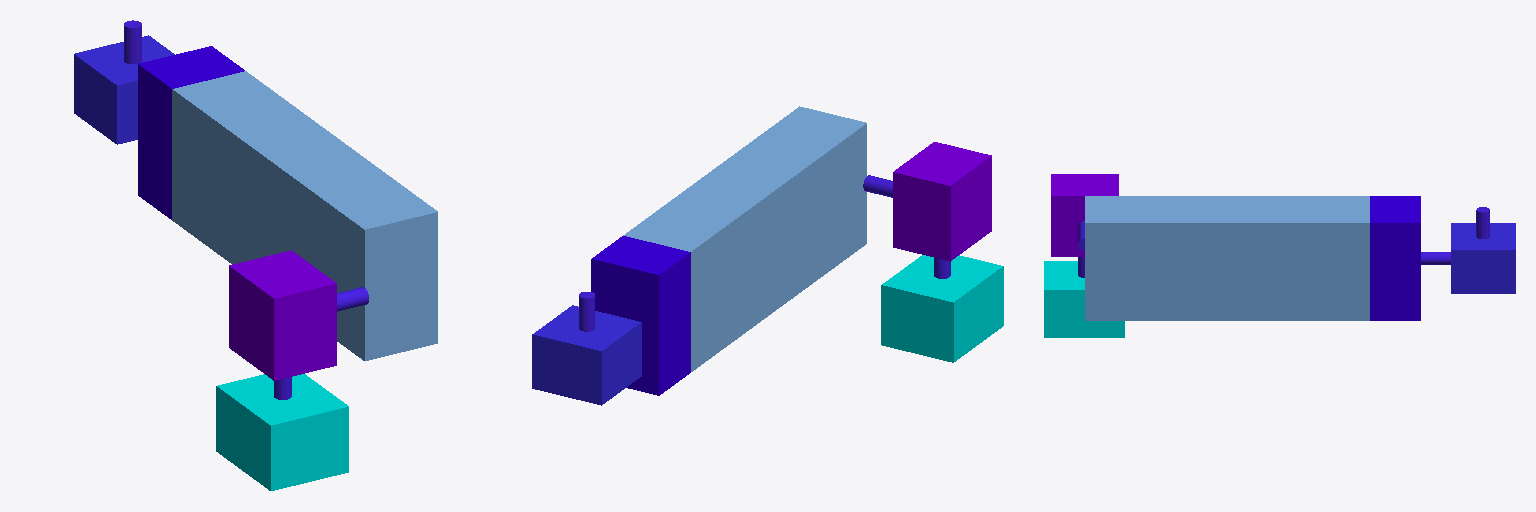
The robot description file, URDF, robot "WheelChairArm1":
<robot name="WheelChairArm1">

	<!-- * * * Link Definitions * * * -->

 	<link name="base_link">
		<visual>
		    <origin xyz="0 0 0" rpy="0 0 0"/>
          <axis xyz="0 0 0" />
			<geometry>
				<box size=".5 .6 0.4"/>
			</geometry>
			<material name="c">
	       		<color rgba="0 0.9 0.9 1.0"/>
	     	</material>
		</visual>	
	</link>

<link name="Stepper1arm">
		<visual>
		    <origin xyz="0 0 0.32" rpy="0 0 0"/>
          <axis xyz="0 0 0" />
			<geometry>
				<cylinder radius="0.05" length=".24"/>
			</geometry>
			<material name="c">
	       		<color rgba="0.3 0.15 0.9 1.0"/>
	     	</material>
		</visual>	
	</link>
<link name="Stepper2Base">
		<visual>
		    <origin xyz="0 0 0.69" rpy="0 0 0"/>
          <axis xyz="0 0 0" />
			<geometry>
				<box size=".4 .5 .5"/>
			</geometry>
			<material name="Cyan2">
	       		<color rgba="0.5 0.0 0.9 .6"/>
	     	</material>
		</visual>	
	</link>
<link name="Stepper2arm">
		<visual>
		    <origin xyz=".36 0 0" rpy="0 1.5708 0"/>
          <axis xyz="0 0 0" />
			<geometry>
				<cylinder radius="0.05" length=".32"/>
			</geometry>
			<material name="Cyan2">
	       		<color rgba="0.3 0.15 0.9 1.0"/>
	     	</material>
		</visual>	
	</link>
<link name="MainArm1">
		<visual>
		    <origin xyz="0.755 1.06 0.69" rpy="0 0 0"/>
          <axis xyz="0 0 0" />
			<geometry>
				<box size=".47 2.12 .8"/>
			</geometry>
			<material name="C3">
	       		<color rgba="0.5 .7 0.9 .6"/>
	     	</material>
		</visual>	
	</link>
<link name="Stepper3Base">
		<visual>
		    <origin xyz="0.755 2.31 0.69" rpy="0 0 0"/>
          <axis xyz="0 0 0" />
			<geometry>
				<box size=".47 .38 .8"/>
			</geometry>
			<material name="C4">
	       		<color rgba="0.25 0.0 0.9 .6"/>
	     	</material>
		</visual>	
	</link>
<link name="Stepper3arm">
		<visual>
		    <origin xyz="0 0 0" rpy="1.5708 0 0"/>
          <axis xyz="0 0 0" />
			<geometry>
				<cylinder radius="0.05" length=".22"/>
			</geometry>
			<material name="C4">
	       		<color rgba="0.3 0.15 0.9 1.0"/>
	     	</material>
		</visual>	
	</link>
<link name="Stepper4Base">
		<visual>
		    <origin xyz="0.755 2.96 0.69" rpy="0 0 0"/>
          <axis xyz="0 0 0" />
			<geometry>
				<box size=".48 .48 .36"/>
			</geometry>
			<material name="C5">
	       		<color rgba="0.25 0.2 0.9 .8"/>
	     	</material>
		</visual>	
	</link>
<link name="Stepper4arm">
		<visual>
		    <origin xyz="0 0 0" rpy="0 0 0"/>
          <axis xyz="0 0 0" />
			<geometry>
				<cylinder radius="0.05" length=".22"/>
			</geometry>
			<material name="C5">
	       		<color rgba="0.3 0.15 0.9 1.0"/>
	     	</material>
		</visual>	
	</link>

	<!-- * * * Joint Definitions * * * -->
	
	<joint name="Stepper1Joint" type="revolute">
    	<parent link="base_link"/>
    	<child link="Stepper1arm"/>
    	<origin xyz="0 0 0" rpy="0 0 0"/>
      <axis xyz="0 0 1"/>
	</joint>


	<joint name="S1toS2" type="fixed">
    	<parent link="Stepper1arm"/>
    	<child link="Stepper2Base"/>
    	<origin xyz="0 0 0" rpy="0 0 0"/>
	</joint>

	<joint name="Stepper2Joint" type="revolute">
    	<parent link="Stepper2Base"/>
    	<child link="Stepper2arm"/>
    	<origin xyz="0 0 .69" rpy="0 0 0"/>
	</joint>

	<joint name="S2toM" type="fixed">
    	<parent link="Stepper2arm"/>
    	<child link="MainArm1"/>
    	<origin xyz="0 0 -0.69" rpy="0 0 0"/>
	</joint>

	<joint name="MtoS3" type="fixed">
    	<parent link="MainArm1"/>
    	<child link="Stepper3Base"/>
    	<origin xyz="0 0 0" rpy="0 0 0"/>
	</joint>

	<joint name="Stepper3Joint" type="revolute">
    	<parent link="Stepper3Base"/>
    	<child link="Stepper3arm"/>
    	<origin xyz="0.755 2.61 0.69" rpy="0 0 0"/>
      <axis xyz="0 1 0"/>
	</joint>

	<joint name="S3toS4" type="fixed">
    	<parent link="Stepper3arm"/>
    	<child link="Stepper4Base"/>
    	<origin xyz="-0.755 -2.61 -0.69" rpy="0 0 0"/>
	</joint>

	<joint name="Stepper4Joint" type="revolute">
    	<parent link="Stepper4Base"/>
    	<child link="Stepper4arm"/>
    	<origin xyz="0.755 2.96 0.98" rpy="0 0 0"/>
      <axis xyz="0 0 1"/>
	</joint>
</robot>

--- What the picture shows (computed from the rendered views, not written in the file) ---
The picture shows the robot from 3 angles, left to right: view 1: azimuth 30°, elevation 25°; view 2: azimuth 150°, elevation 25°; view 3: azimuth 270°, elevation 25°; orthographic projection.
Robot: WheelChairArm1 — 9 links, 8 joints (4 revolute, 4 fixed); root link base_link; default pose: all joints at 0.
Visible links, largest first — view 1: MainArm1, base_link, Stepper2Base, Stepper3Base, Stepper4Base, Stepper4arm, Stepper2arm; view 2: MainArm1, Stepper3Base, base_link, Stepper2Base, Stepper4Base, Stepper4arm; view 3: MainArm1, Stepper3Base, Stepper4Base, base_link, Stepper2Base.
Link boxes in pixels (x1,y1,x2,y2): MainArm1: (172,71,437,360); base_link: (216,374,348,490); Stepper2Base: (229,250,336,380); Stepper3Base: (138,46,244,219); Stepper4Base: (74,35,174,144); Stepper4arm: (124,20,141,63); Stepper2arm: (337,287,368,311); MainArm1: (623,106,866,371); Stepper3Base: (591,236,690,395); base_link: (881,255,1003,362); Stepper2Base: (893,142,991,261); Stepper4Base: (532,305,641,405); Stepper4arm: (579,292,594,331); MainArm1: (1085,196,1369,320); Stepper3Base: (1370,196,1420,320); Stepper4Base: (1451,223,1515,293); base_link: (1044,261,1124,337); Stepper2Base: (1051,174,1118,256).
Bounding box of the posed robot: 1.25 × 3.5 × 1.29 m (x, y, z).
Geometry: primitives only (box / cylinder / sphere), no mesh files.